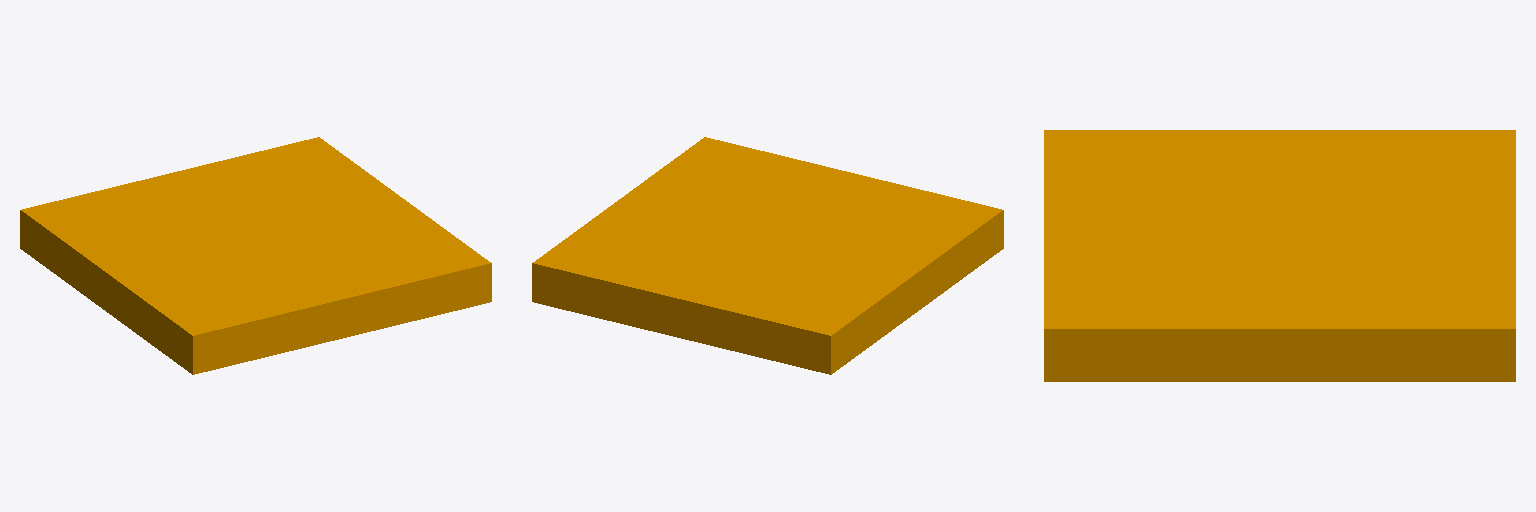
The robot description file, URDF, robot "apriltag_0_3611":
<robot name="apriltag_0_3611">

    <link name="apriltag_link_id0">
        <inertial>
            <origin xyz="0 0 0" rpy="0 0 0"/>
            <mass value="1.0"/>
            <inertia ixx="0.07461" ixy="0.0" ixz="0.0" iyy="0.5854" iyz="0.0" izz="0.02641"/>
        </inertial>
        <collision>
            <origin xyz="0 0 0" rpy="0 0 0"/>
            <geometry>
                <box size="0.2 0.2 0.1"/>
            </geometry>
        </collision>
        <visual>
            <origin xyz="0 0 0" rpy="0 0 0"/>
            <geometry>
                <mesh filename="package://apriltag_description/meshes/apriltag_0.dae"/>
            </geometry>
        </visual>
    </link>
    
    <gazebo reference="apriltag_link_id0">
        <kp>100000.0</kp>
        <kd>100000.0</kd>
        <mu1>0.1</mu1>
        <mu2>0.1</mu2>  
        <fdir1>1 0 0</fdir1>

           <!-- this tag may be unecessary if static is set to true
            (but using since may set static to false later)-->
        <gravity>0</gravity>
    </gazebo>

    <!-- Make sure that the reference="" attribute is not specified -->
    <gazebo>
        <static>true</static>
     
        
    </gazebo>
    

</robot>

--- What the picture shows (computed from the rendered views, not written in the file) ---
The picture shows the robot from 3 angles, left to right: view 1: azimuth 30°, elevation 25°; view 2: azimuth 150°, elevation 25°; view 3: azimuth 270°, elevation 25°; orthographic projection.
Model apriltag_0_3611 with 1 links and 0 joints (none), rooted at apriltag_link_id0, posed every joint at zero.
Links seen in each view (by area): view 1: apriltag_link_id0; view 2: apriltag_link_id0; view 3: apriltag_link_id0.
Link boxes in pixels (left/top/right/bottom): apriltag_link_id0: left=20, top=137, right=491, bottom=374; apriltag_link_id0: left=532, top=137, right=1003, bottom=374; apriltag_link_id0: left=1044, top=130, right=1515, bottom=381.
Bounding box of the posed robot: 0.16 × 0.16 × 0.02 m (x, y, z).
Meshes: 1 distinct files referenced, 1 mesh visuals loaded (1 Collada DAE).